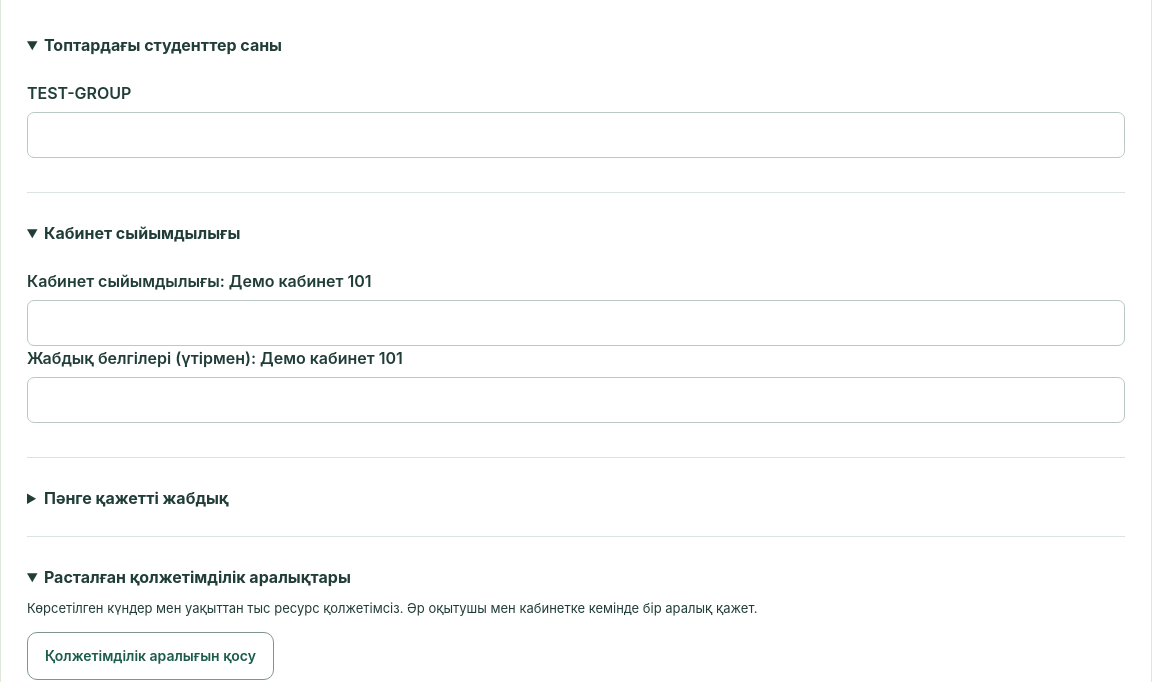
preserves admin inputs on a revision conflict and leaves them dirty
(page scrolled)
Type "25" into the number field labelled "Кабинет сыйымдылығы: Демо кабинет 101" at coordinates (576, 323), box [27,300,1125,346]
(page scrolled)
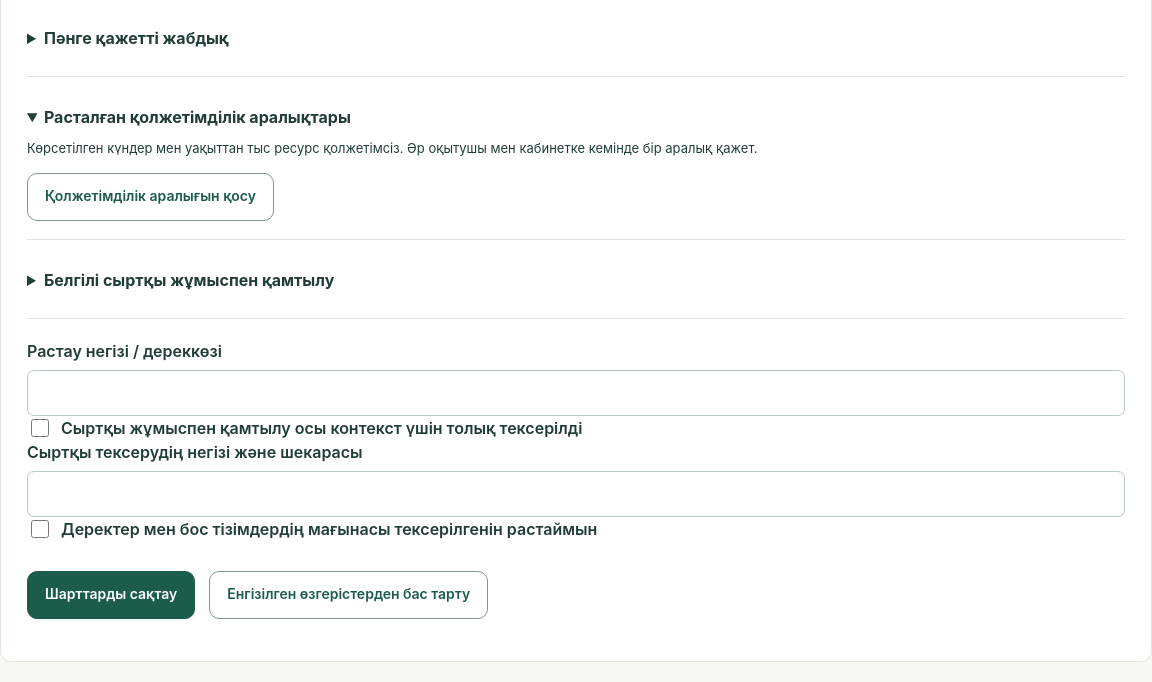
Click the button "Шарттарды сақтау" at coordinates (111, 595), box [27,571,195,619]
(page scrolled)
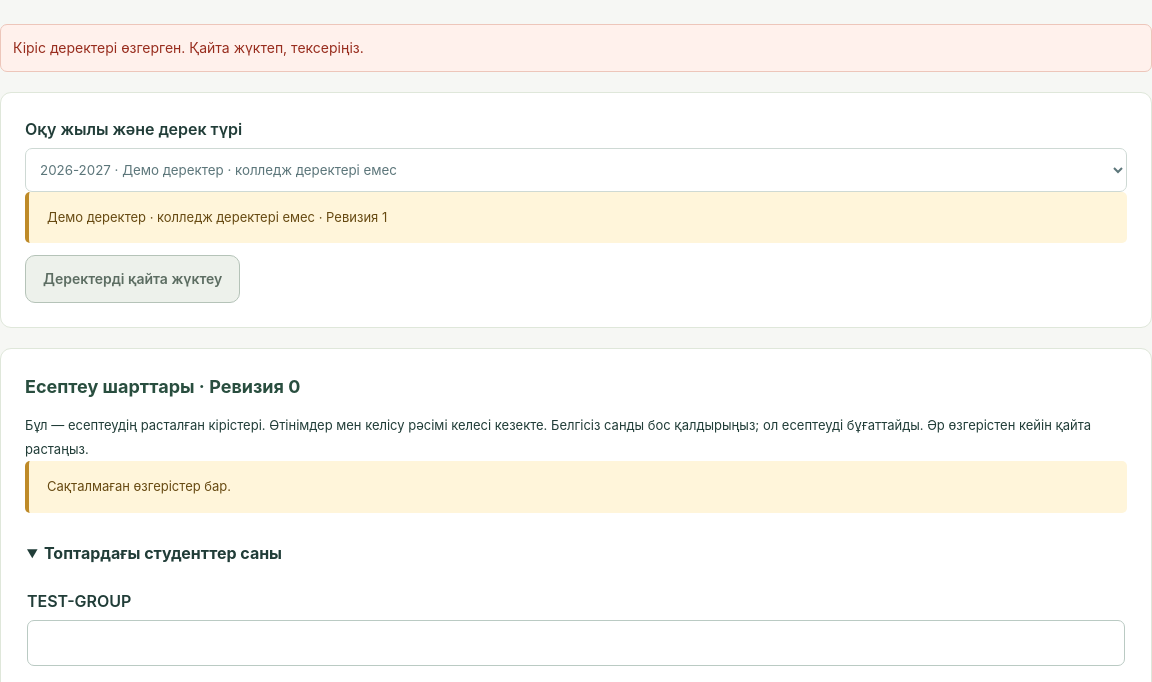
Result: the text "Сақталмаған өзгерістер бар." is shown at [25,461,1127,513]
Result: the button "Деректерді қайта жүктеу" is disabled at [25,256,240,304]
Result: the message "Кіріс деректері өзгерген. Қайта жүктеп, тексеріңіз." is shown at [0,24,1151,72]
